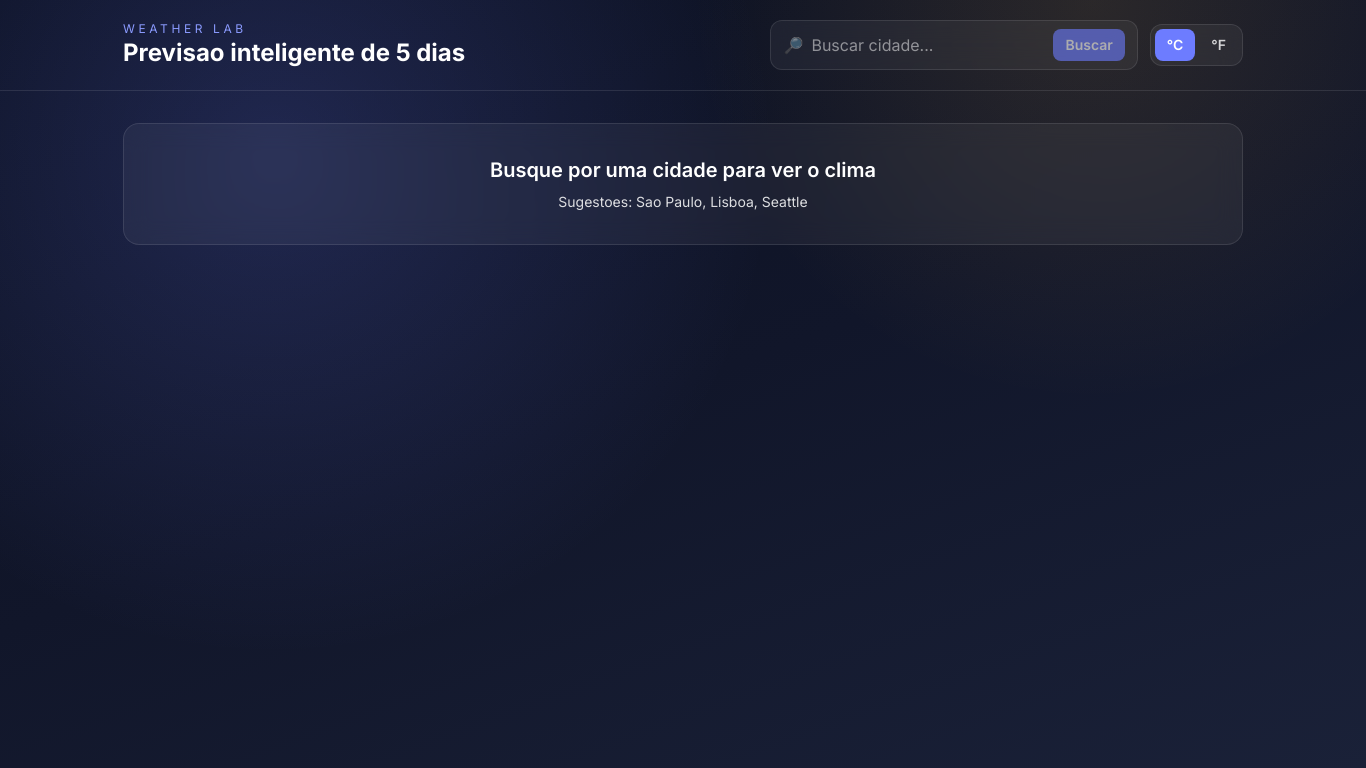
Scenario: App (mock-first) › alterna temperatura para fahrenheit no sucesso
Type "Sao Paulo" into the field named "buscar cidade por nome".
click(928, 45); type("Sao Paulo")  # box [811,33,1045,57]
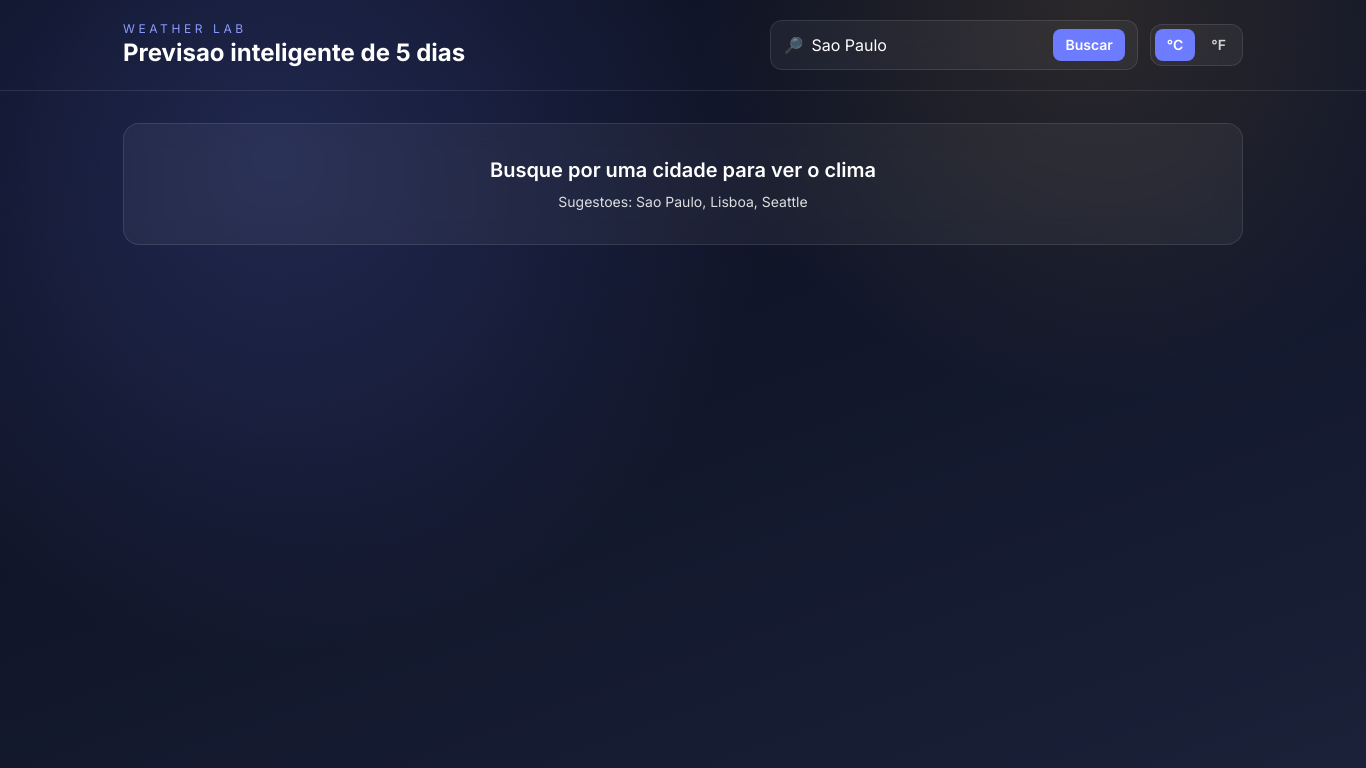
Click the button "Buscar".
click(1089, 45)  # box [1053,29,1125,61]
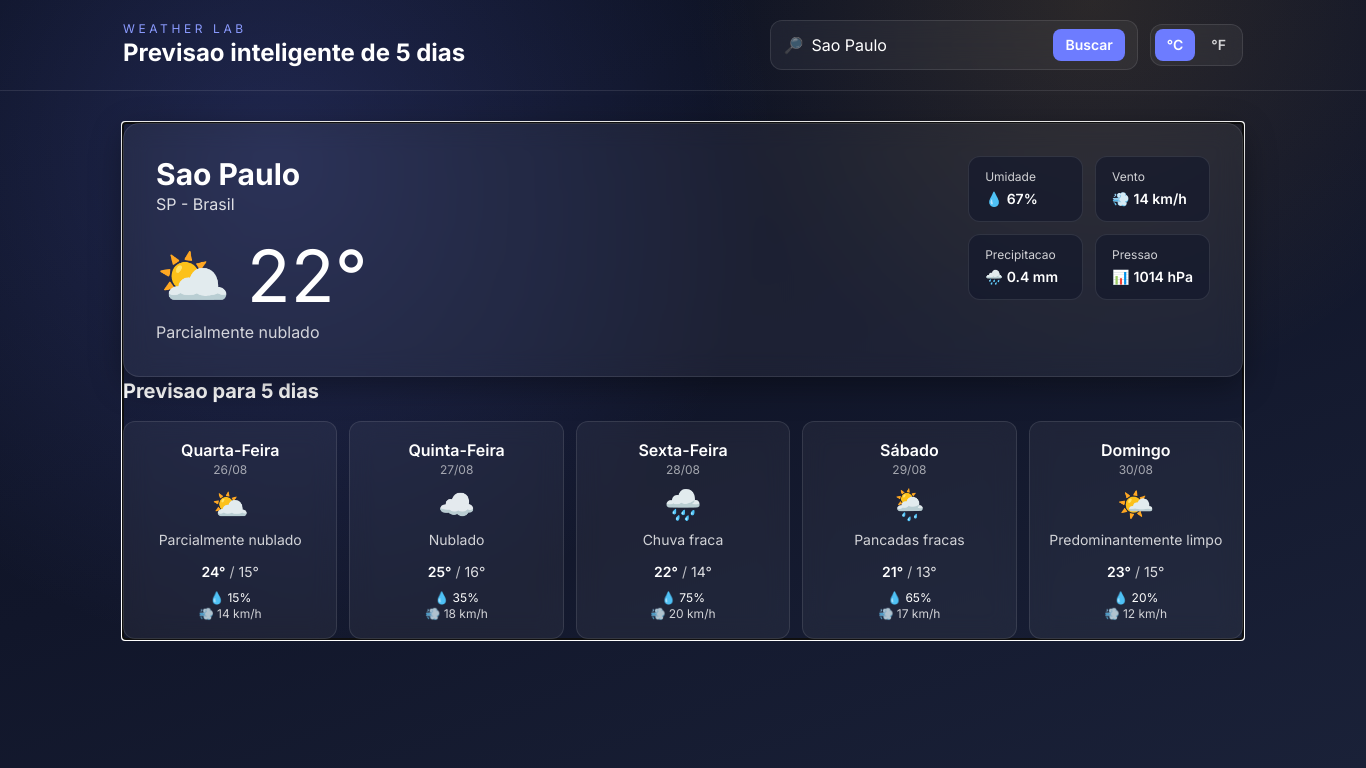
Expected: the heading "Sao Paulo" is shown, [156,156,300,192]
Expected: the text "22°" below "SP - Brasil" is shown, [247,232,368,319]
Click the button named "alternar para fahrenheit".
click(1219, 45)  # box [1199,29,1238,61]
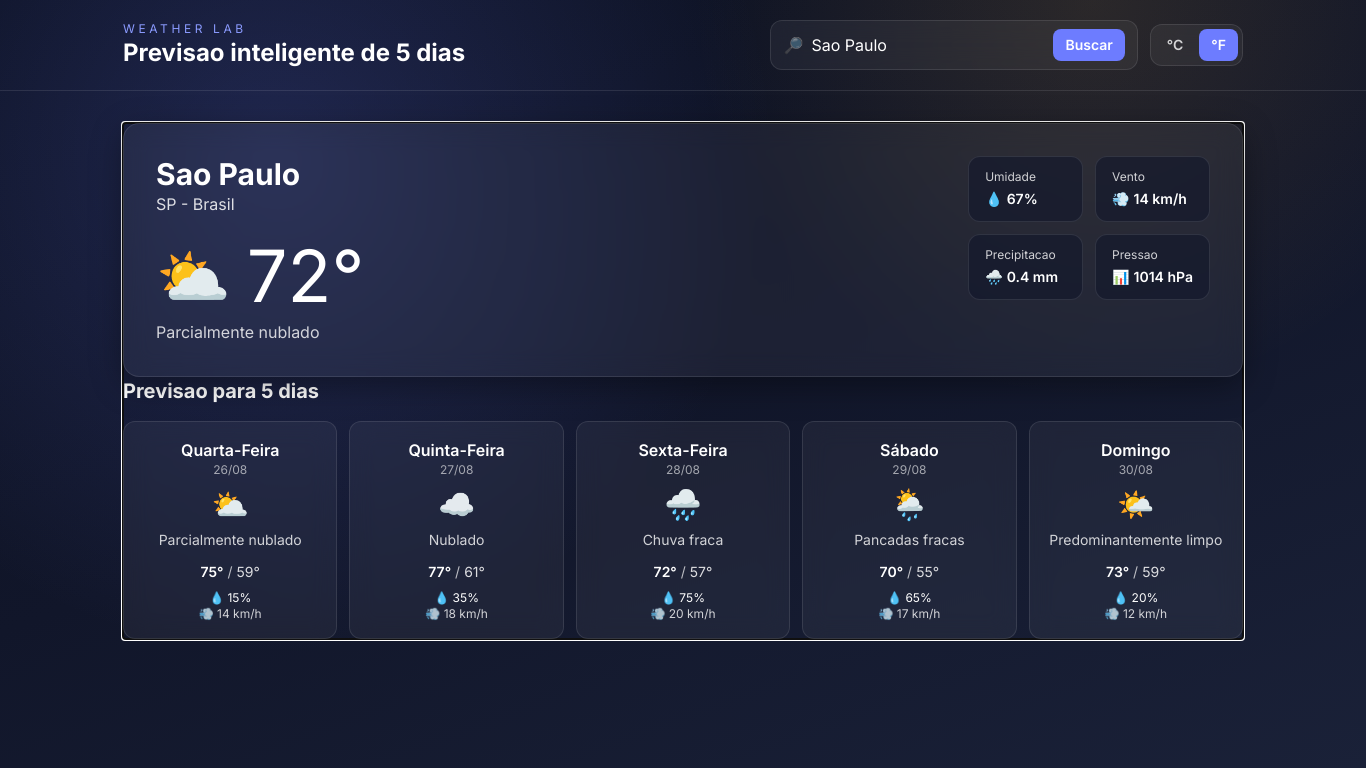
Expected: the text "72°" below "SP - Brasil" is shown, [247,232,364,319]
